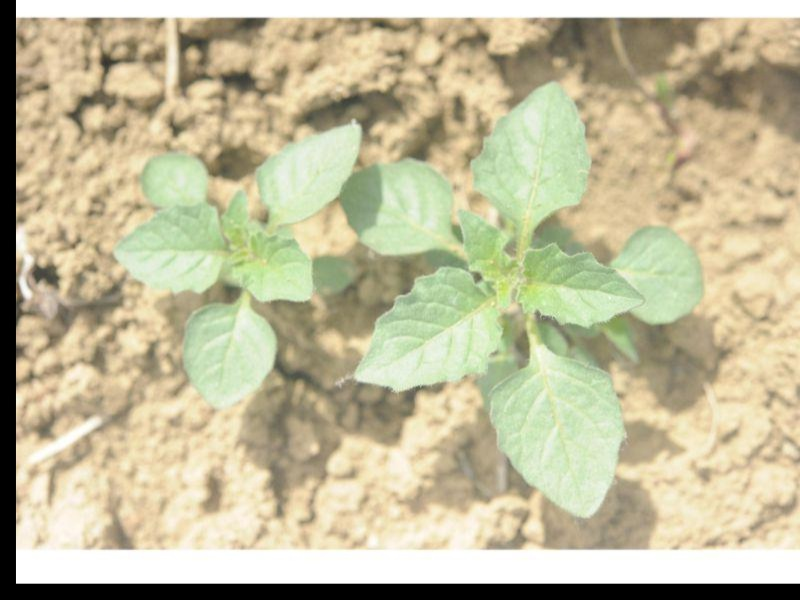nightshade: (338, 79, 701, 520), (114, 120, 358, 410)
